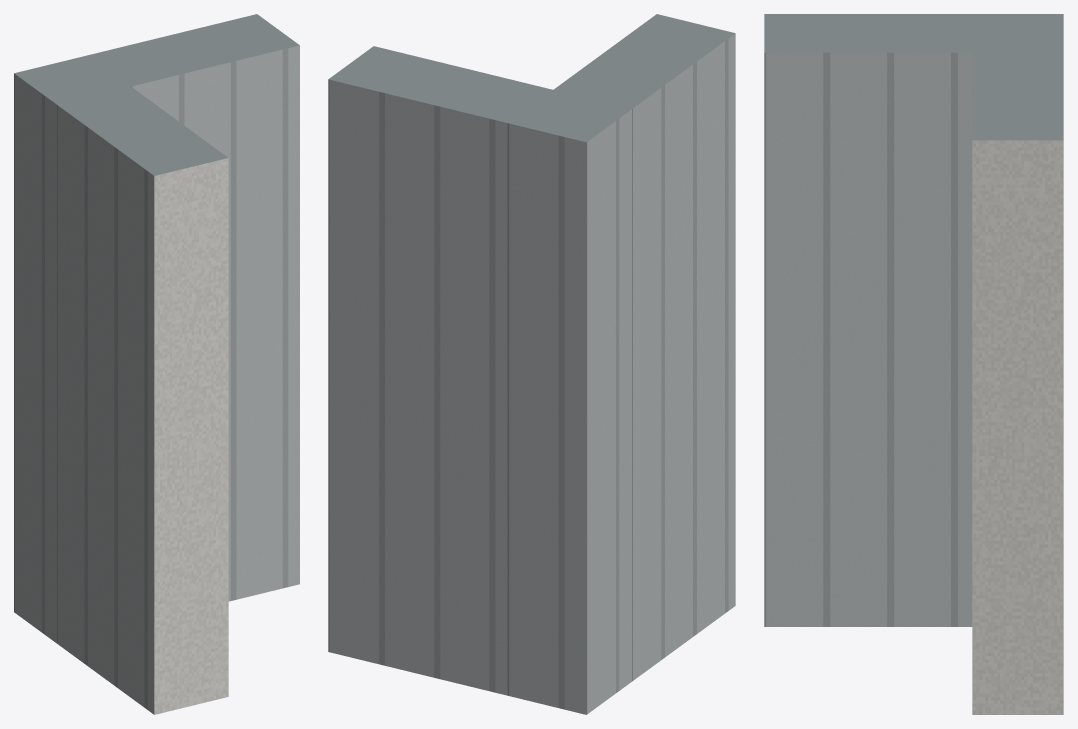
File: Wall_06.glb
3 renders of one model, left to right at view 1: azimuth 30°, elevation 25°; view 2: azimuth 150°, elevation 25°; view 3: azimuth 270°, elevation 25°, orthographic. The views are drawn at different scales.
Visible parts, largest first — view 1: Wall_NESW_06; view 2: Wall_NESW_06; view 3: Wall_NESW_06.
Boxes of the visible parts, x1,y1,x2,y2 form: Wall_NESW_06: (14, 14, 299, 714); Wall_NESW_06: (328, 14, 735, 714); Wall_NESW_06: (764, 14, 1063, 714).
Bounding box in the file's own units: 0.59 × 1.25 × 0.59.
Materials: 1 (1 with a texture image).
